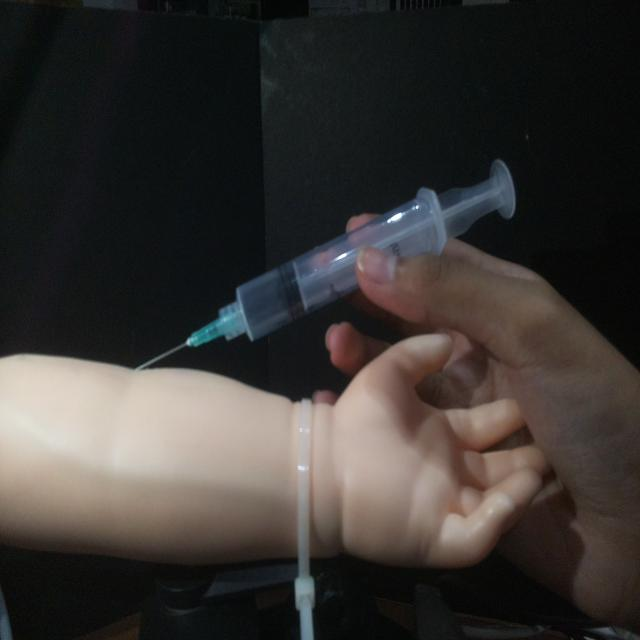22deg: (131, 153, 521, 373)
